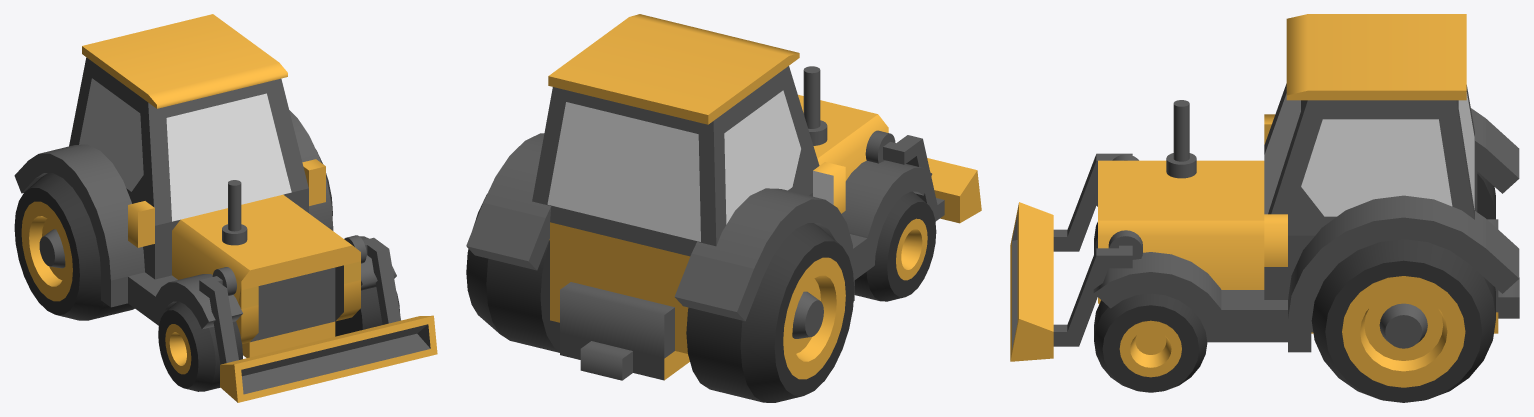
File: tractorShovel.dae
3 views of the same model, side by side, from view 1: azimuth 30°, elevation 25°; view 2: azimuth 150°, elevation 25°; view 3: azimuth 270°, elevation 25° (orthographic). The views are drawn at different scales.
Visible parts, largest first — view 1: body, shovel, skirts, wheel_backLeft, wheel_frontLeft, wheel_frontRight; view 2: body, skirts, wheel_backLeft, wheel_backRight, wheel_frontLeft, shovel; view 3: body, skirts, wheel_backRight, shovel, wheel_frontRight, wheel_backLeft.
Part boxes in pixels (<box>): body: <box>69,14,360,357</box>; shovel: <box>199,235,437,402</box>; skirts: <box>14,110,396,329</box>; wheel_backLeft: <box>14,173,134,320</box>; wheel_frontLeft: <box>158,301,242,391</box>; wheel_frontRight: <box>335,287,399,336</box>; body: <box>532,14,888,380</box>; skirts: <box>466,133,932,321</box>; wheel_backLeft: <box>686,223,854,402</box>; wheel_backRight: <box>466,194,559,352</box>; wheel_frontLeft: <box>854,191,936,301</box>; shovel: <box>865,130,981,223</box>; body: <box>1098,14,1519,333</box>; skirts: <box>1093,108,1519,352</box>; wheel_backRight: <box>1311,239,1495,402</box>; shovel: <box>1010,153,1142,361</box>; wheel_frontRight: <box>1094,293,1207,392</box>; wheel_backLeft: <box>1477,171,1495,219</box>.
Size of the model in its own units: 1.66 by 1.51 by 2.41.
